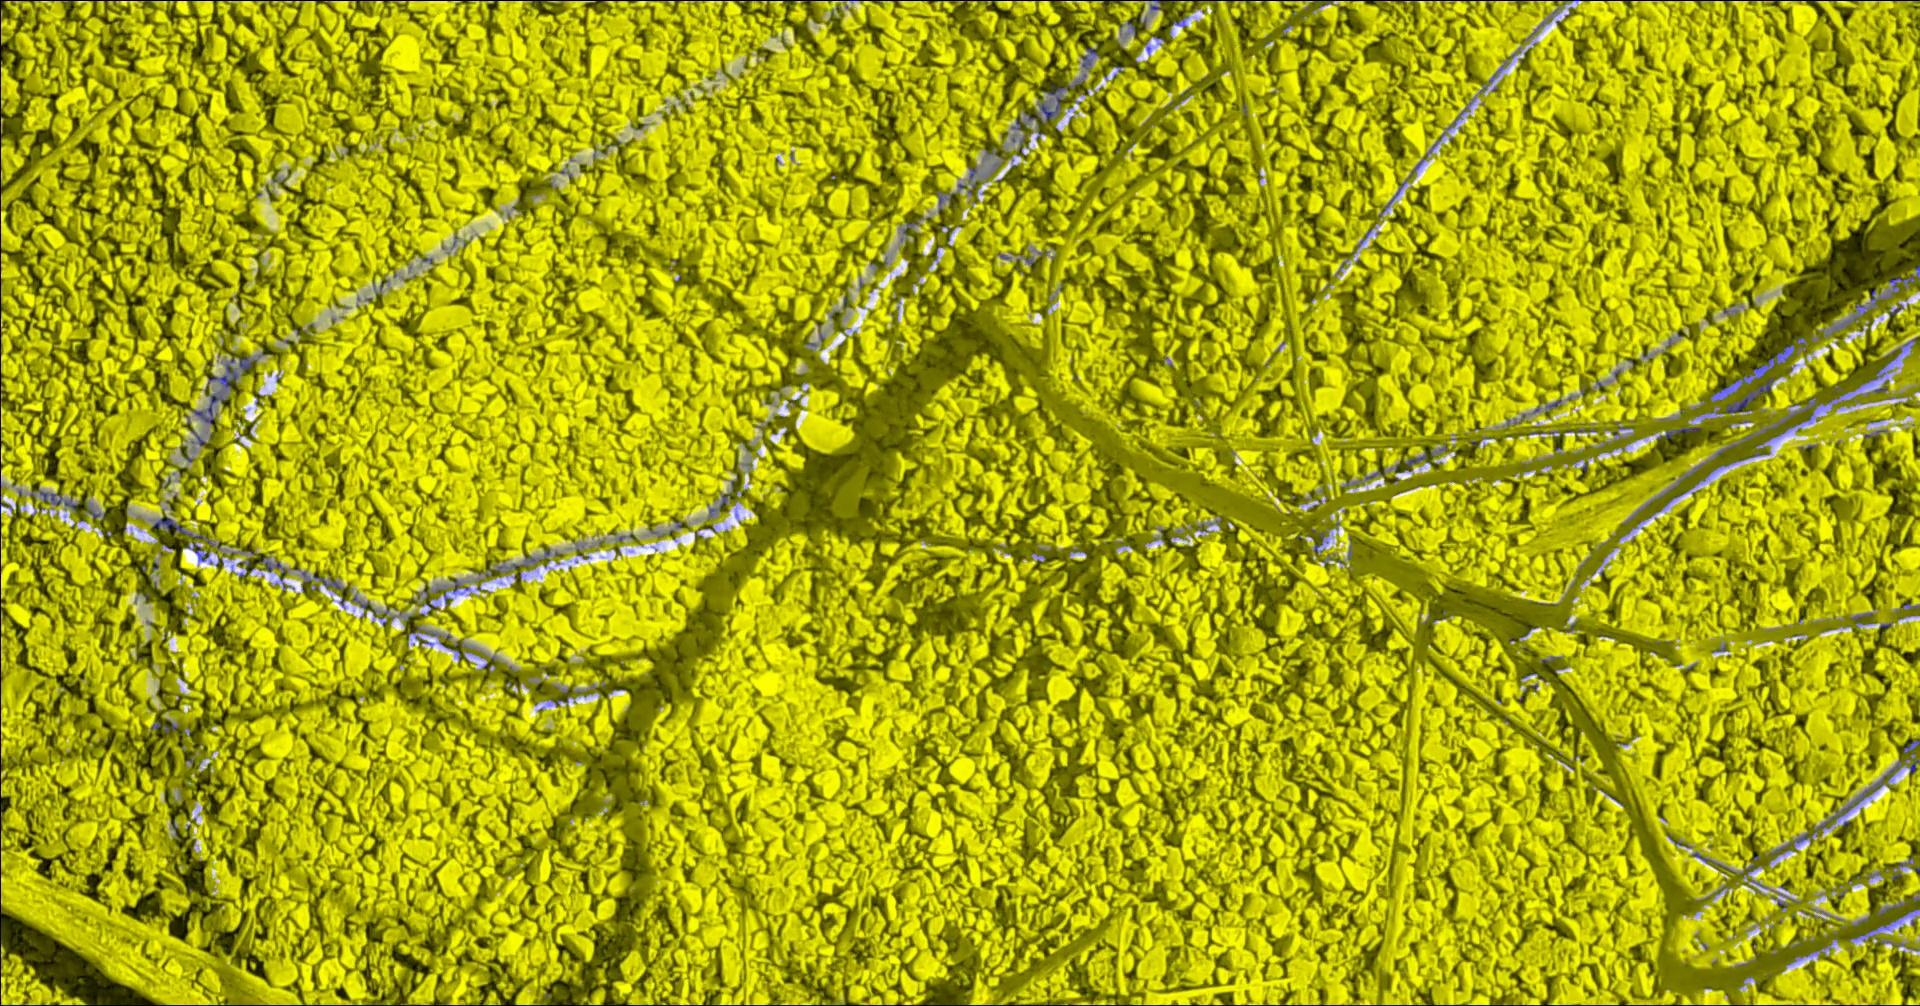ant: (1731, 344, 1794, 384), (1023, 83, 1079, 124), (152, 517, 220, 547), (1724, 377, 1774, 412), (1853, 768, 1895, 804), (190, 394, 223, 423), (39, 492, 79, 511), (206, 365, 236, 387), (1657, 427, 1702, 439), (312, 574, 343, 589), (1404, 451, 1426, 471), (187, 542, 208, 561), (150, 720, 177, 732), (1888, 276, 1910, 290), (1902, 738, 1919, 753), (237, 356, 254, 370)
